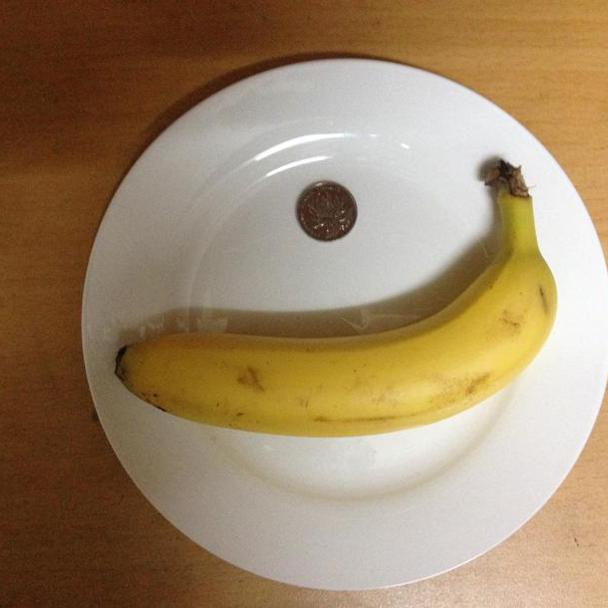banana: (113, 286, 606, 439)
